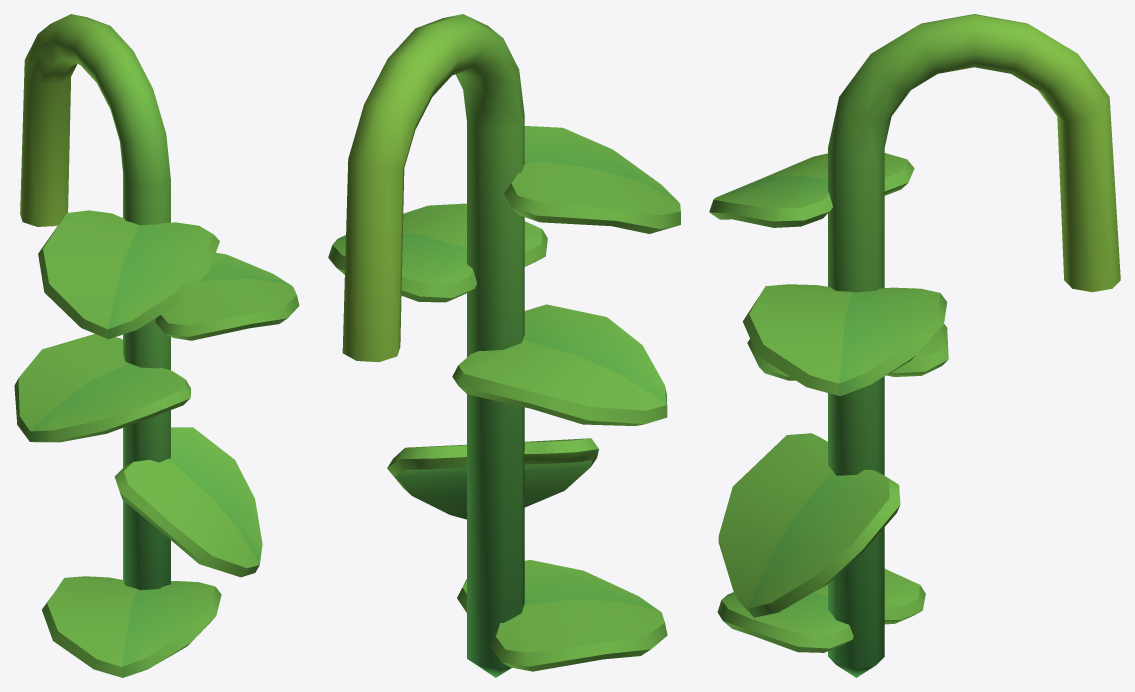
Rendered from pothos_vine_small_C.fbx.
The picture shows the model from 3 angles, left to right: view 1: azimuth 30°, elevation 25°; view 2: azimuth 150°, elevation 25°; view 3: azimuth 270°, elevation 25°; orthographic projection. The views are drawn at different scales.
Parts seen in each view (by area): view 1: pothos_vine_small_C; view 2: pothos_vine_small_C; view 3: pothos_vine_small_C.
Part boxes in pixels (x1,y1,x2,y2): pothos_vine_small_C: (14,14,299,677); pothos_vine_small_C: (328,14,680,677); pothos_vine_small_C: (709,14,1120,677).
Size of the model in its own units: 33.94 by 69.53 by 39.12.
Materials: 1 (1 with a texture image).
